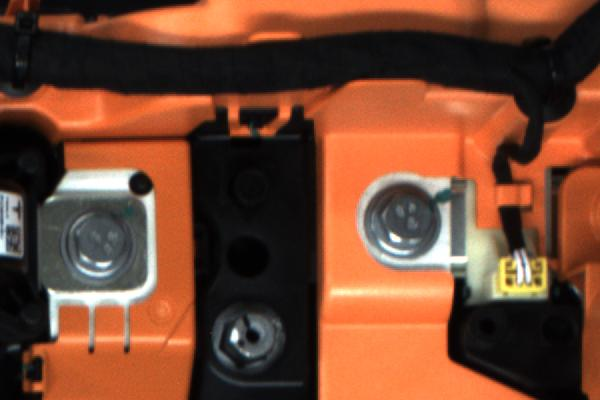nut_b: (52, 203, 148, 288), (355, 172, 447, 260)
